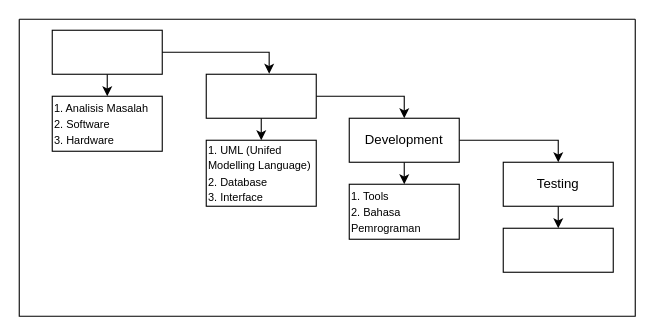
Some shapes in this 655 by 336 pixel diagram are drawn without their labels. The shapes that lost their labels are listed below. From the top down, each one's centre as x and y in pixels, then its label:
the point at 106,51: Requirement Analysis
the point at 260,95: Design
the point at 557,249: 1. Alpha Testing 2. Betha Testing
